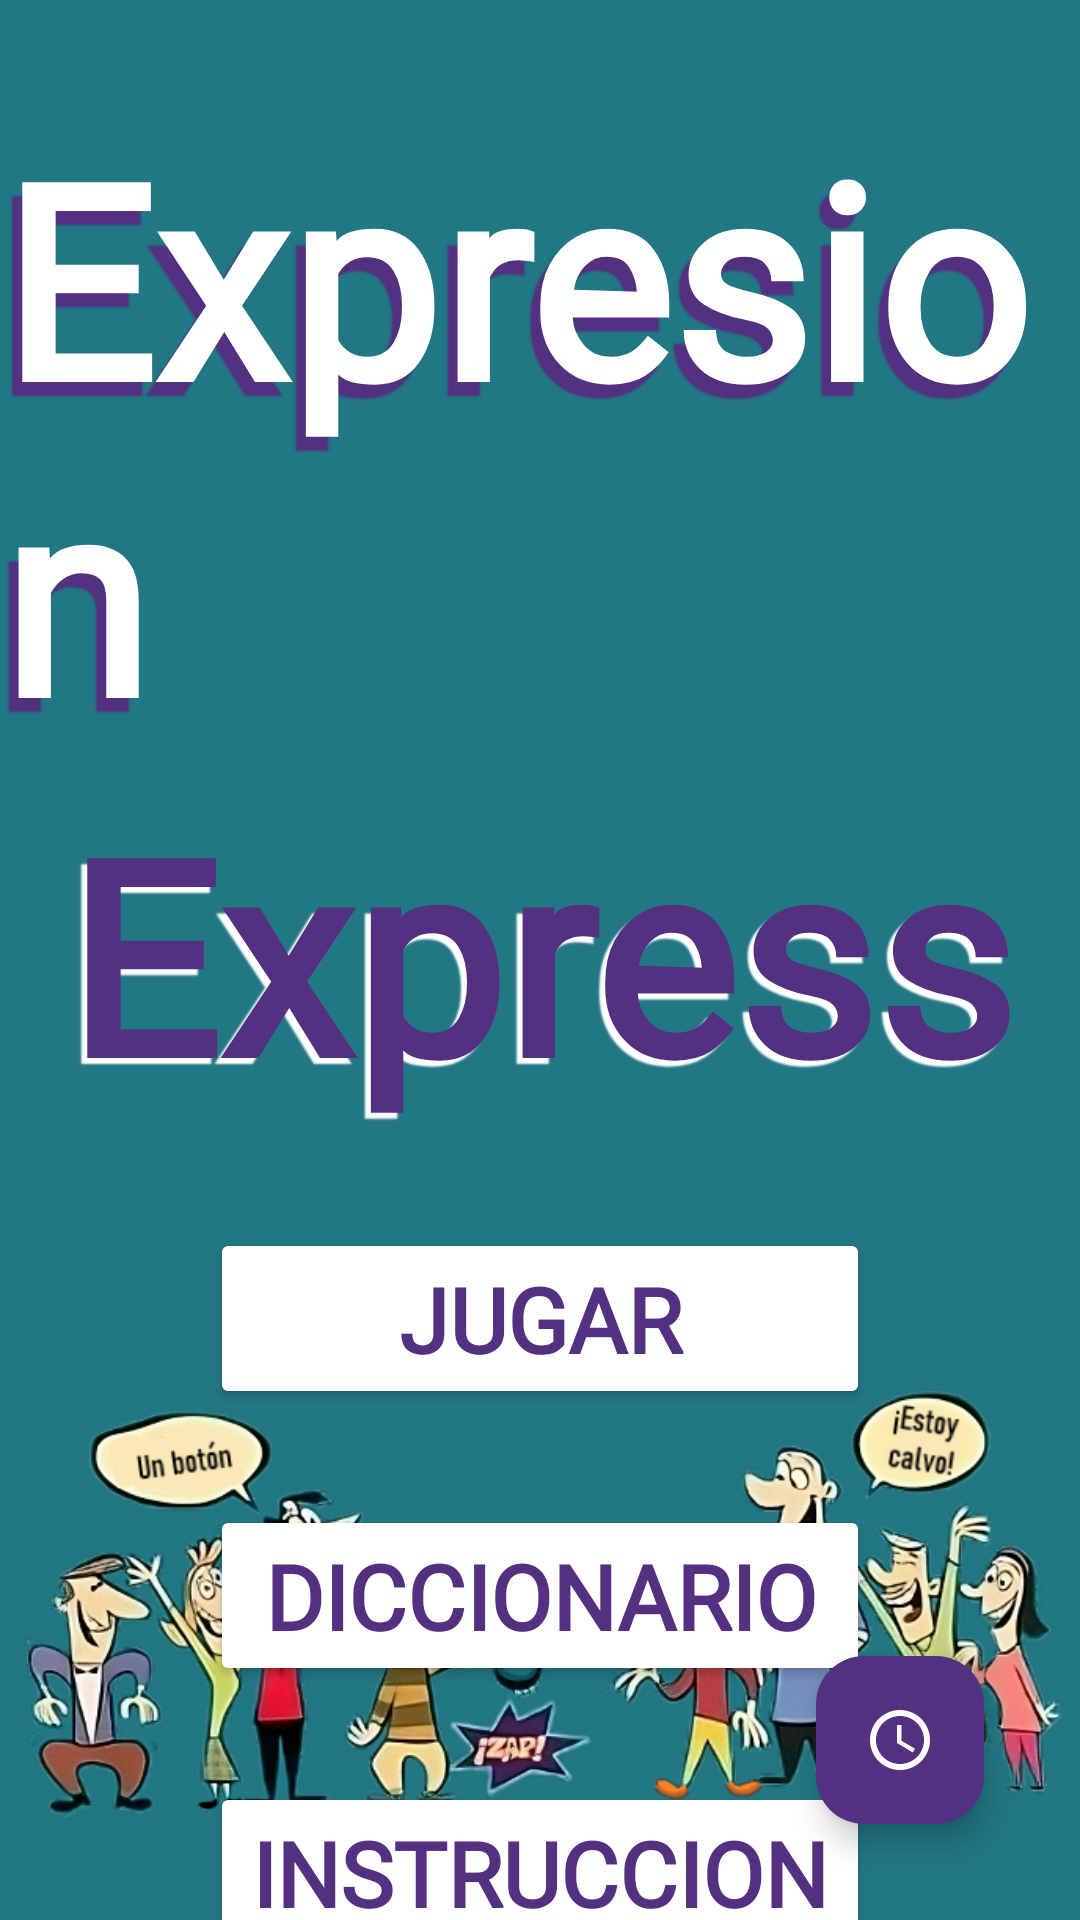

Named icons in this screenshot (1080x1920) and their centers, (x=x, y=y):
time: (x=900, y=1740)
